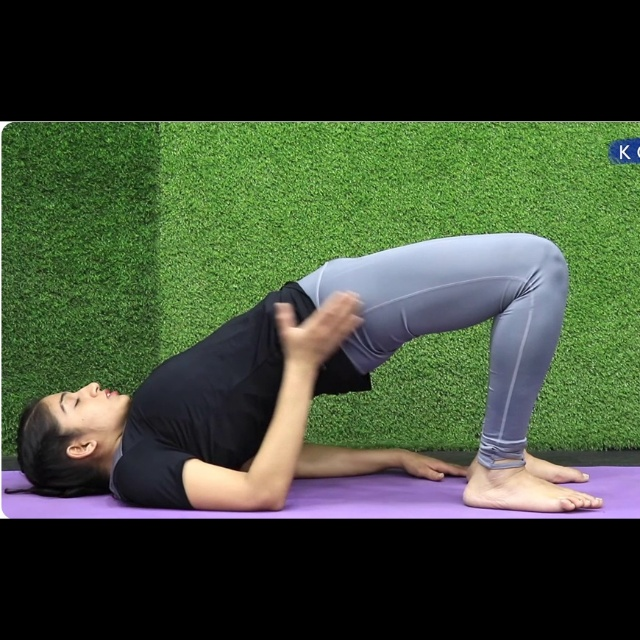Bridge_Pose: (16, 230, 608, 523)
